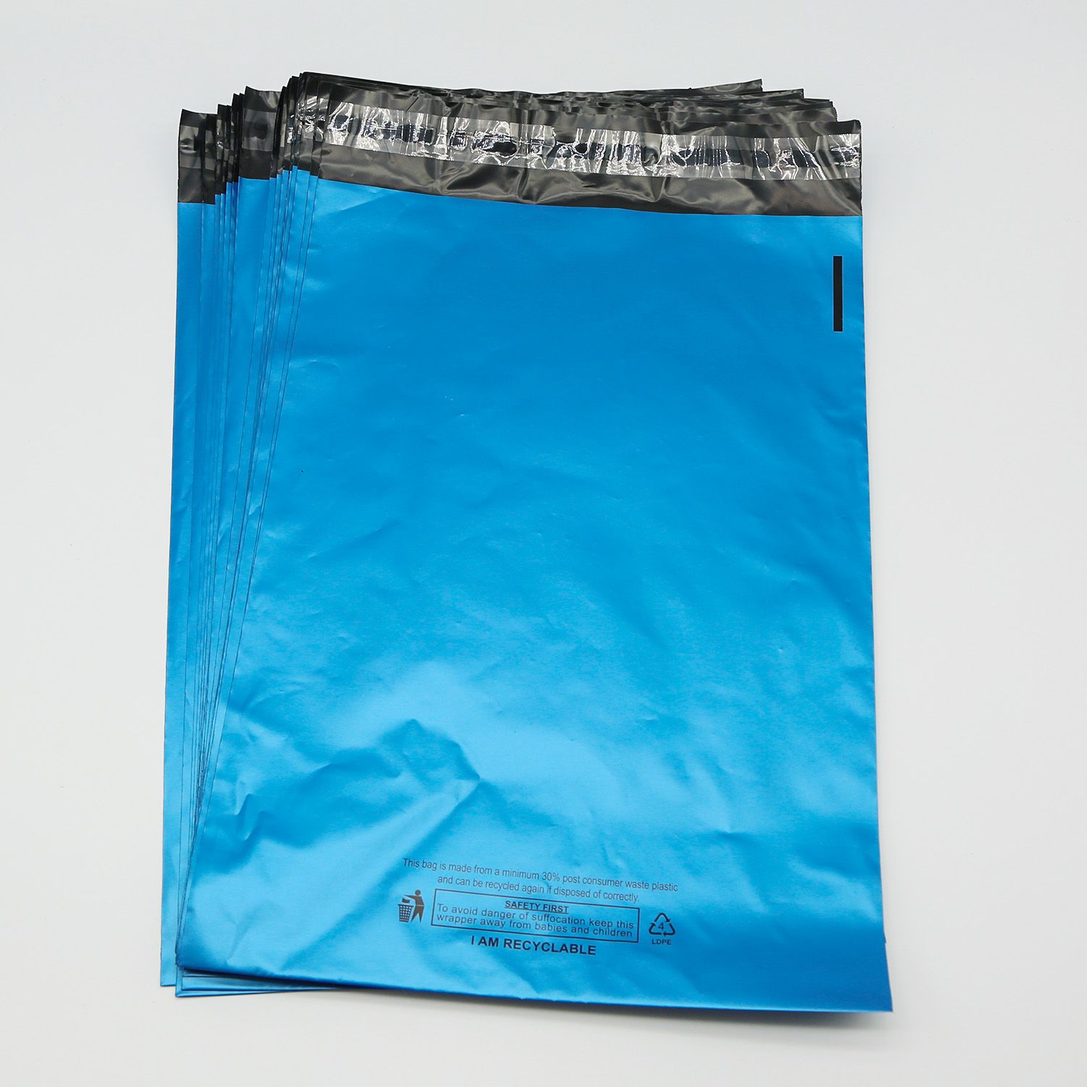Parcel: (161, 73, 891, 1012)
